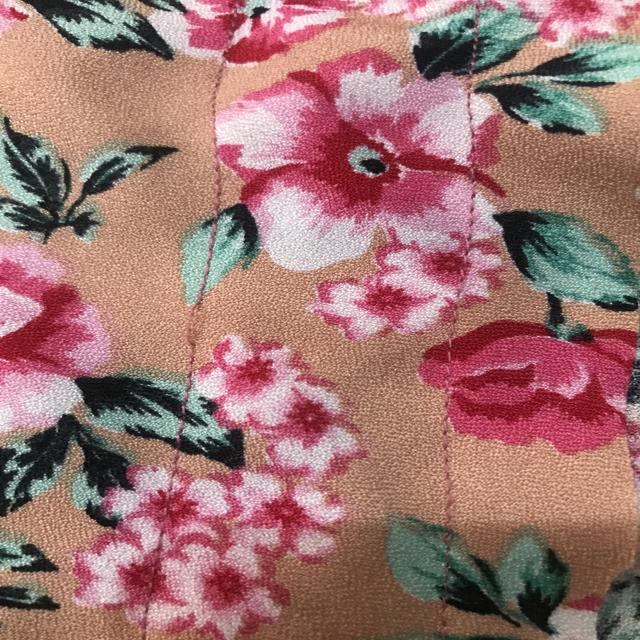skip: (178, 287, 208, 358)
